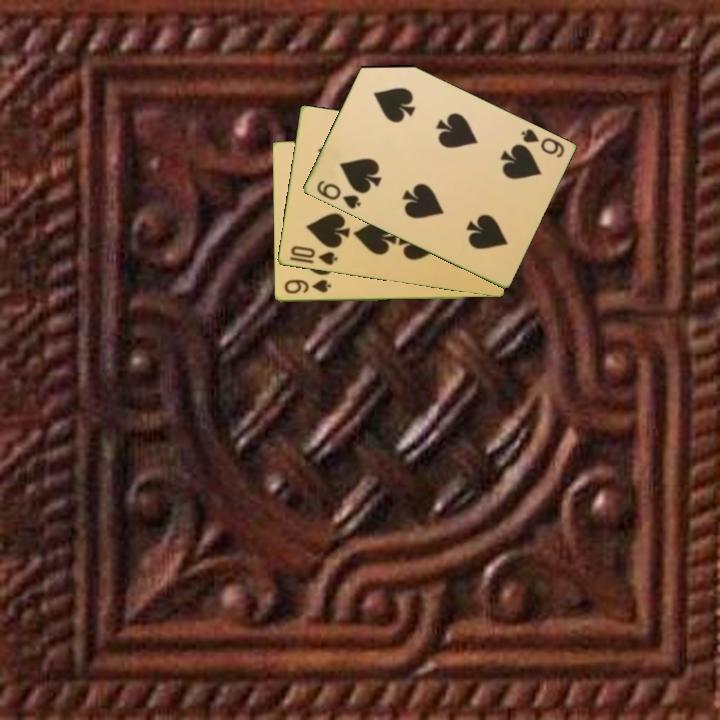10s: (287, 242, 340, 268)
6s: (516, 125, 567, 161), (313, 177, 363, 212)
9s: (280, 276, 333, 297)
